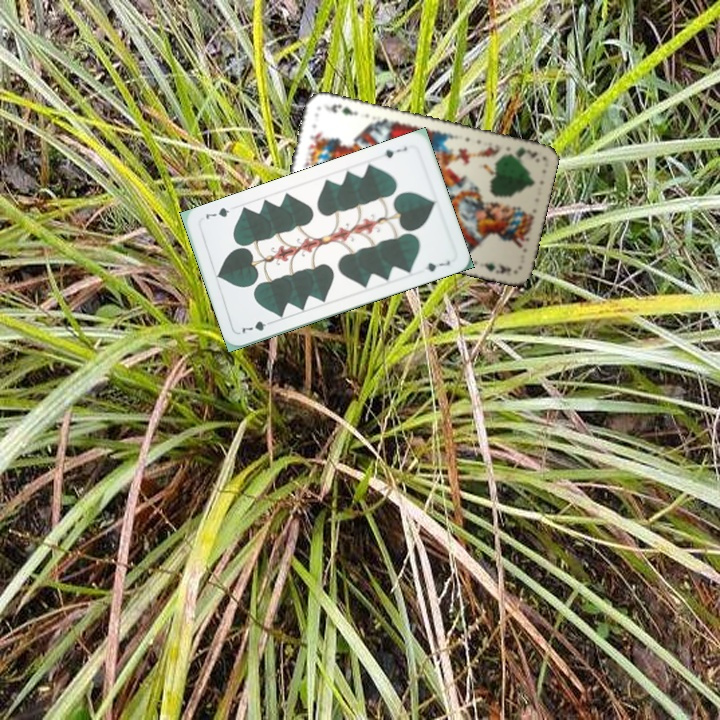G7: (238, 317, 276, 336), (380, 142, 410, 161)
GK: (511, 143, 541, 161)
